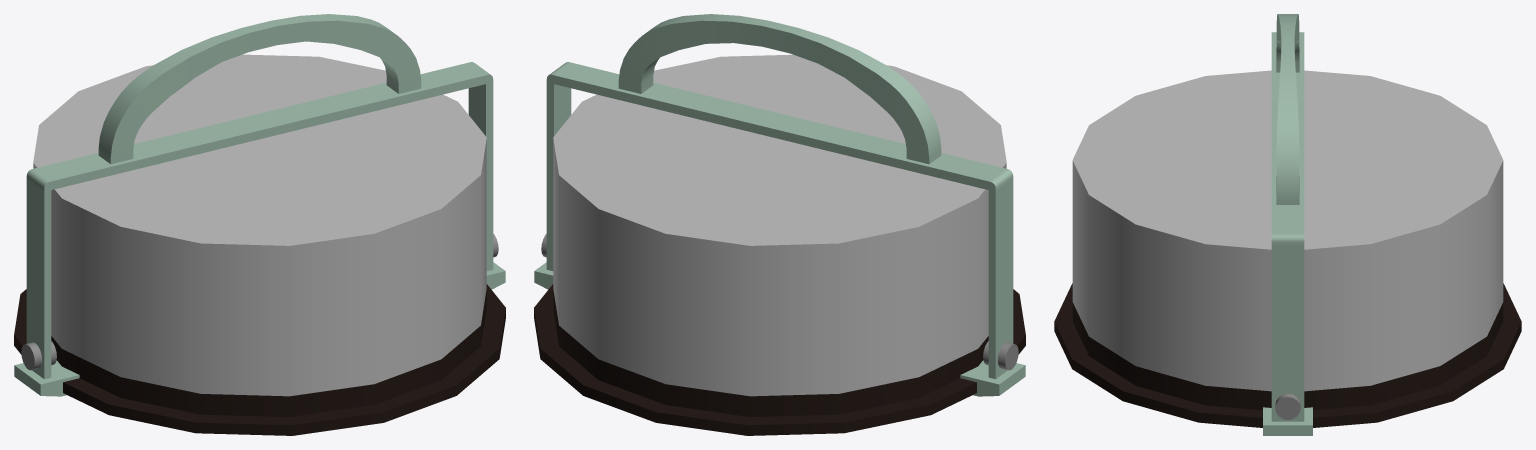
The model's file is Durian_Cheesecake.fbx.
3 views of the same model, side by side, from view 1: azimuth 30°, elevation 25°; view 2: azimuth 150°, elevation 25°; view 3: azimuth 270°, elevation 25° (orthographic). The views are drawn at different scales.
Parts seen in each view (by area): view 1: Cylinder.001, Cube, Cylinder, Cube.002; view 2: Cylinder.001, Cube, Cylinder, Cube.002; view 3: Cylinder.001, Cylinder, Cube, Cube.002.
Part boxes in pixels (x1,y1,x2,y2): Cylinder.001: (33, 54, 486, 396); Cube: (14, 62, 505, 396); Cylinder: (14, 284, 505, 435); Cube.002: (98, 14, 421, 164); Cylinder.001: (553, 54, 1006, 396); Cube: (534, 62, 1025, 396); Cylinder: (534, 284, 1025, 435); Cube.002: (618, 14, 941, 164); Cylinder.001: (1072, 70, 1503, 391); Cylinder: (1054, 283, 1521, 427); Cube: (1263, 32, 1312, 435); Cube.002: (1276, 14, 1299, 204).
Size of the model in its own units: 909 by 576 by 840.
